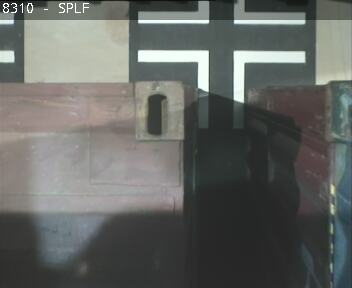groundmarker_1: (138, 48, 306, 128)
